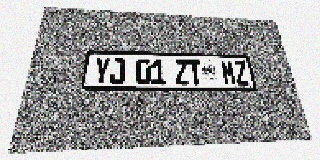0: (136, 59, 151, 85)
1: (151, 59, 165, 85)
J: (109, 58, 125, 85)
M: (220, 61, 237, 85)
T: (187, 60, 203, 85)
Y: (93, 58, 110, 85)
Z: (233, 61, 250, 85), (174, 59, 189, 85)
